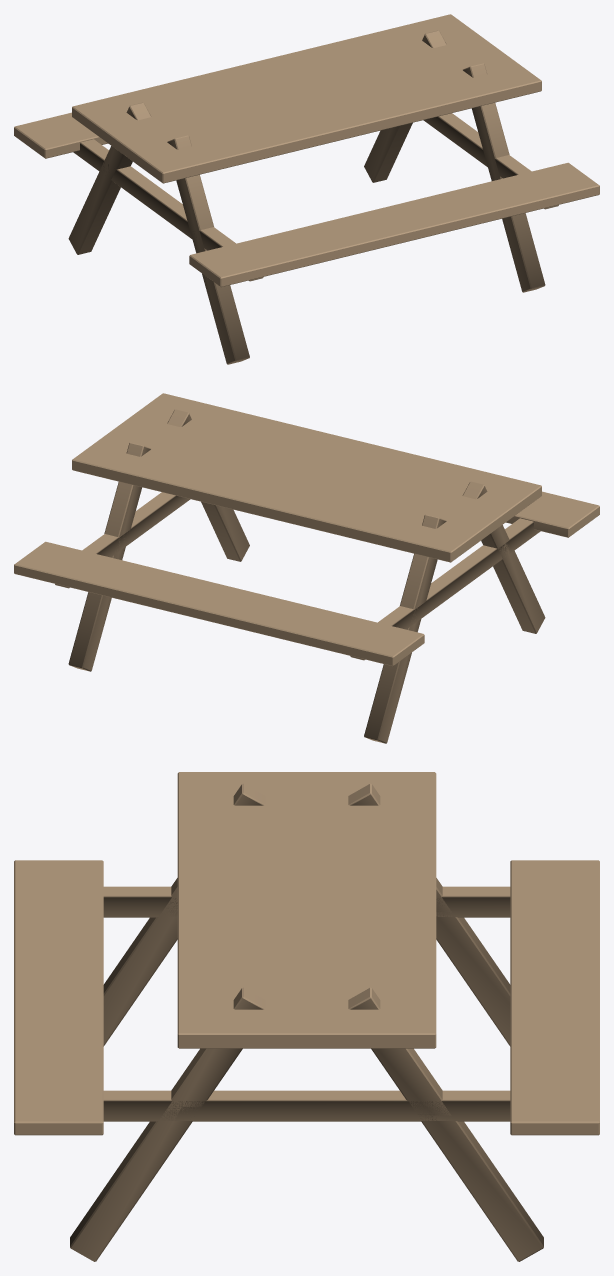
File: picnic_table.glb
3 renders of one model, top to bottom at view 1: azimuth 30°, elevation 25°; view 2: azimuth 150°, elevation 25°; view 3: azimuth 270°, elevation 25°, orthographic. The views are drawn at different scales.
Parts seen in each view (by area): view 1: picnic_table; view 2: picnic_table; view 3: picnic_table.
Boxes of the visible parts, x1=… form: picnic_table: x1=14, y1=14, x2=599, y2=364; picnic_table: x1=14, y1=393, x2=599, y2=743; picnic_table: x1=14, y1=772, x2=599, y2=1261.
Size of the model in its own units: 1.8 by 0.8491 by 1.7.
